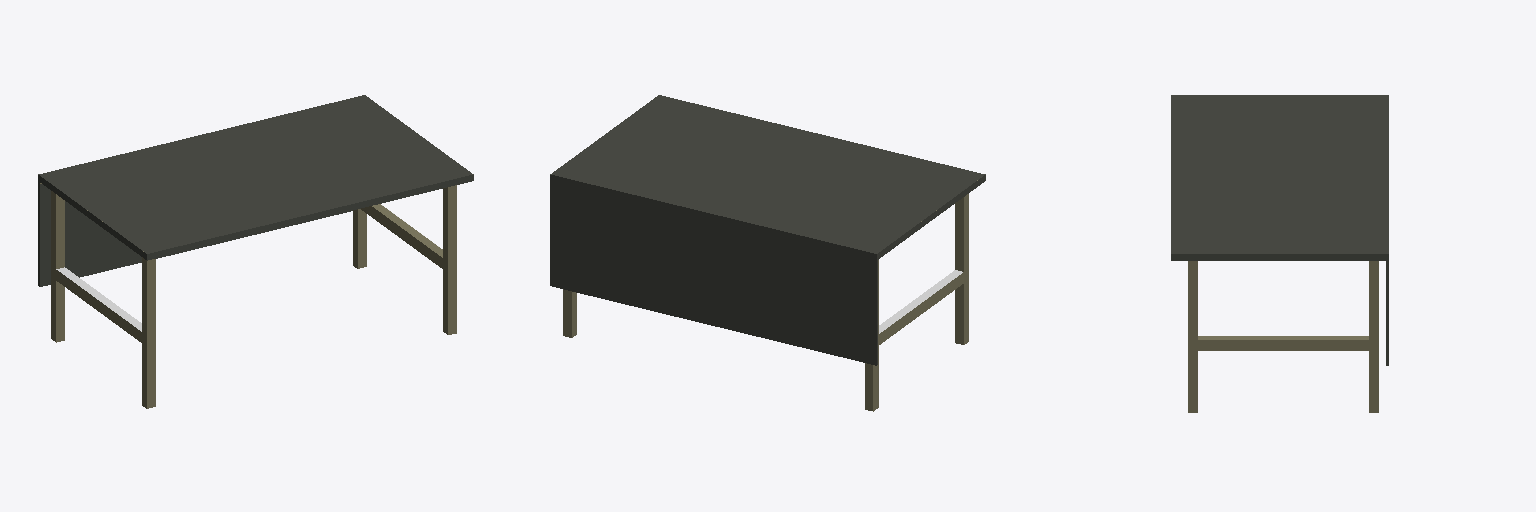
The picture shows the model from 3 angles: view 1: azimuth 30°, elevation 25°; view 2: azimuth 150°, elevation 25°; view 3: azimuth 270°, elevation 25°; orthographic projection.
Parts seen in each view (by area): view 1: Cube.001; view 2: Cube.001; view 3: Cube.001.
Boxes of the visible parts, <box> form: Cube.001: <box>38,95,473,408</box>; Cube.001: <box>550,95,985,411</box>; Cube.001: <box>1171,95,1388,412</box>.
Bounding box in the file's own units: 5.2 × 2.48 × 3.
3 materials, 1 textured.